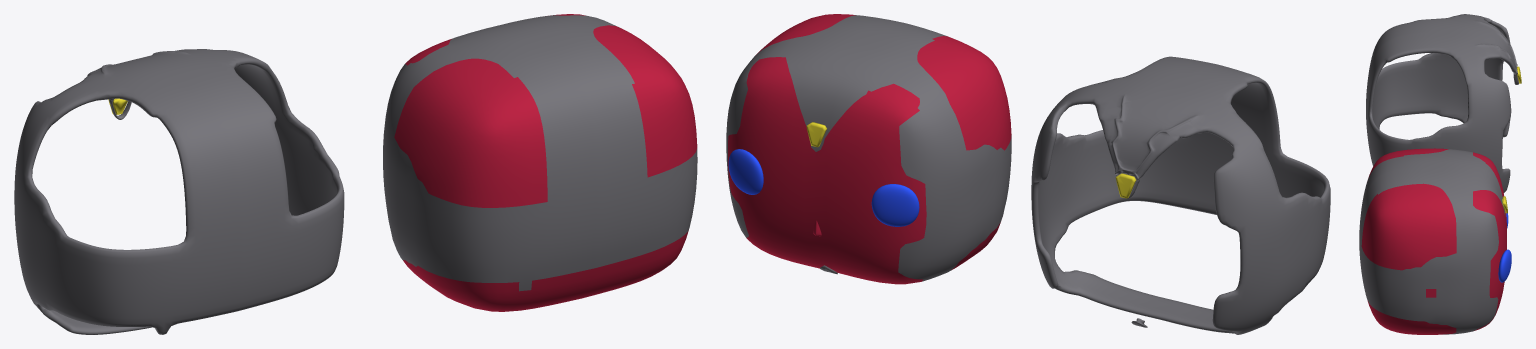
Rendered from Vision.fbx.
3 views of the same model, side by side, from view 1: azimuth 30°, elevation 25°; view 2: azimuth 150°, elevation 25°; view 3: azimuth 270°, elevation 25° (orthographic). The views are drawn at different scales.
Visible parts, largest first — view 1: Mask, HeadBehindMask, HaedWithoutMask; view 2: Mask, HaedWithoutMask, HeadBehindMask, Eyes; view 3: Mask, HeadBehindMask, HaedWithoutMask, Eyes.
Boxes of the visible parts, x1,y1,x2,y2 form: Mask: [14, 49, 344, 334]; HeadBehindMask: [383, 15, 697, 291]; HaedWithoutMask: [394, 14, 697, 311]; Mask: [1031, 56, 1330, 334]; HaedWithoutMask: [728, 14, 1011, 284]; HeadBehindMask: [726, 15, 1011, 281]; Eyes: [728, 149, 919, 226]; Mask: [1366, 14, 1518, 192]; HeadBehindMask: [1359, 149, 1505, 334]; HaedWithoutMask: [1361, 148, 1506, 334]; Eyes: [1498, 213, 1511, 282].
Size of the model in its own units: 98.95 by 42.37 by 35.95.
